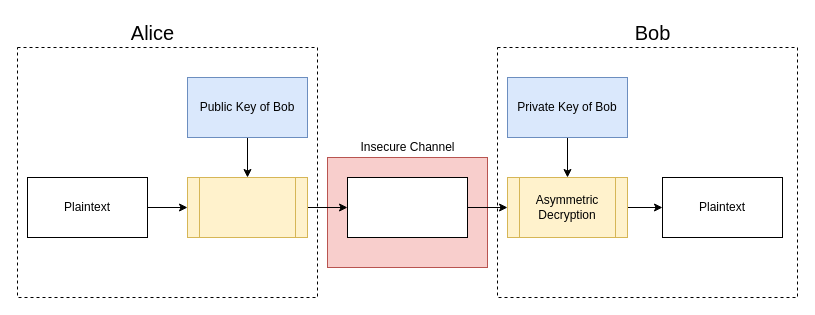
Image size: 815x315. Some labels were removed from this diagram. The shapes that lost their labels are listed below. From the top down, each one's centre as x and y in pixels, then its label:
At (247,207): "Asymmetric Encryption".
At (407,207): "Chiffre".
